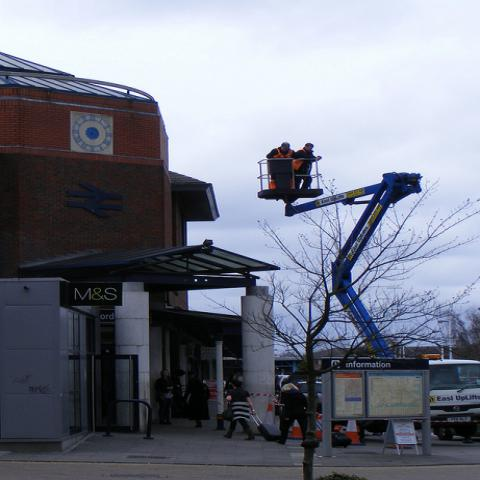car: (421, 353, 480, 439), (295, 381, 323, 403)
truck: (431, 360, 479, 441)
